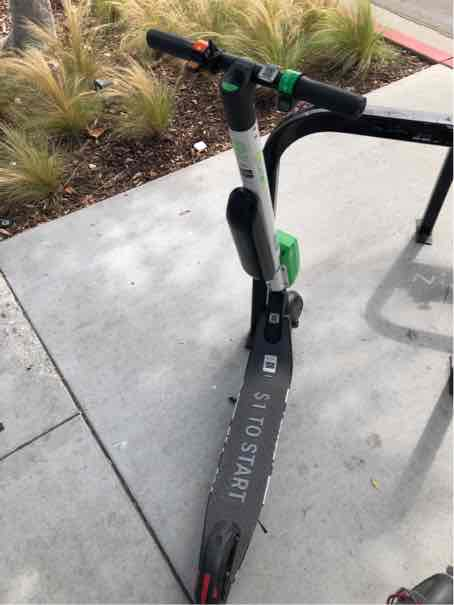scooter: (144, 30, 373, 602)
